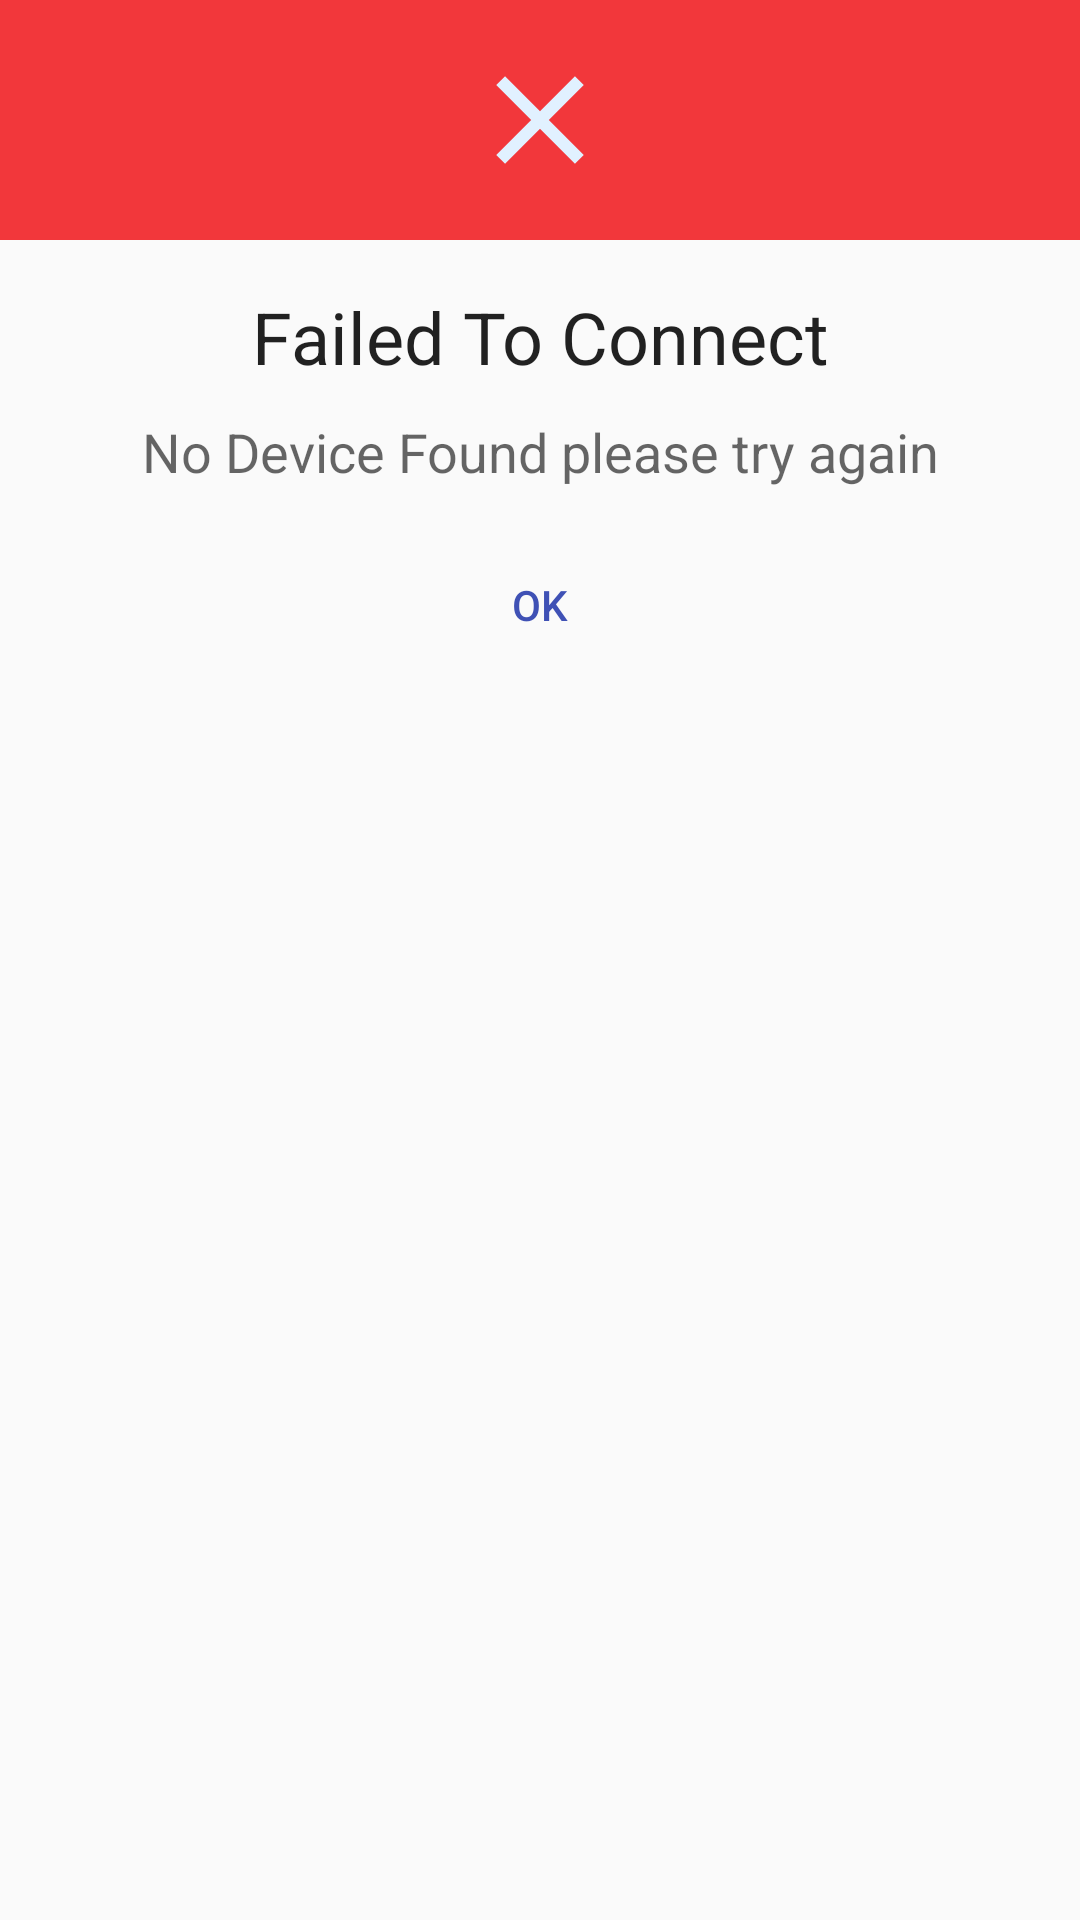

Icon bounding boxes for this 1080px×1920px phone screenshot, format (x1, y1, x2, y2):
close: (496, 76, 584, 164)
